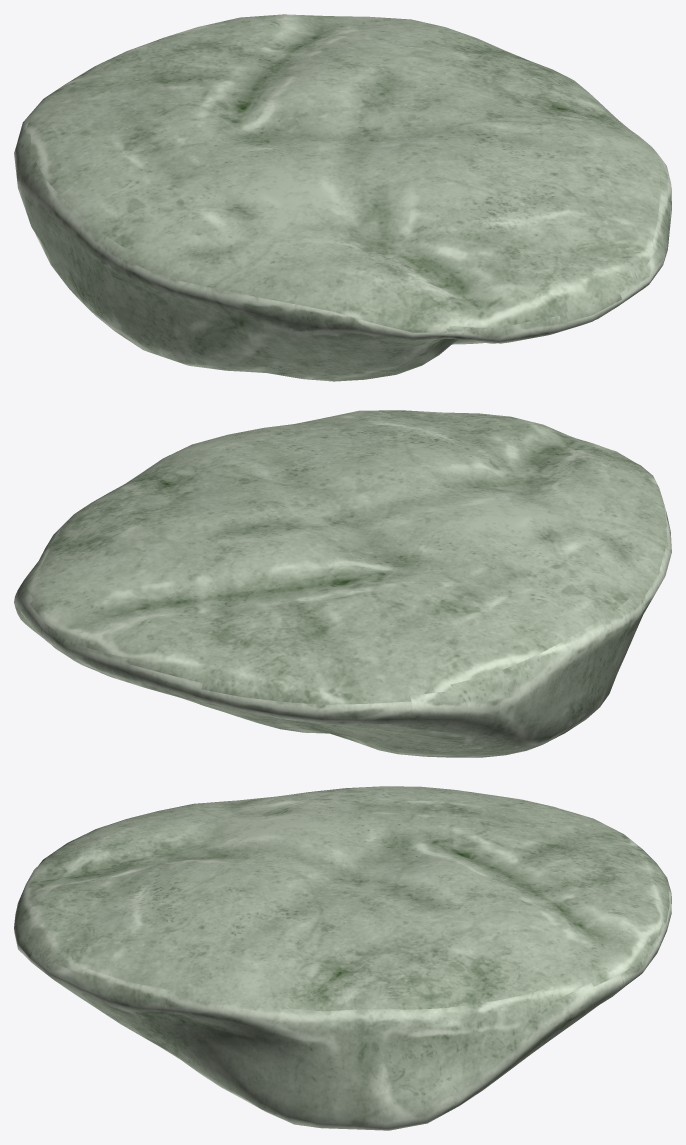
File: SmallRock_04.fbx
3 views of the same model, one above another, from view 1: azimuth 30°, elevation 25°; view 2: azimuth 150°, elevation 25°; view 3: azimuth 270°, elevation 25° (orthographic). The views are drawn at different scales.
Parts seen in each view (by area): view 1: small_rock_06_lopoly:Group14056; view 2: small_rock_06_lopoly:Group14056; view 3: small_rock_06_lopoly:Group14056.
Part boxes in pixels (<box>): small_rock_06_lopoly:Group14056: <box>14,14,671,381</box>; small_rock_06_lopoly:Group14056: <box>14,410,671,757</box>; small_rock_06_lopoly:Group14056: <box>14,786,671,1130</box>.
Size of the model in its own units: 4.52 by 1.54 by 5.13.
